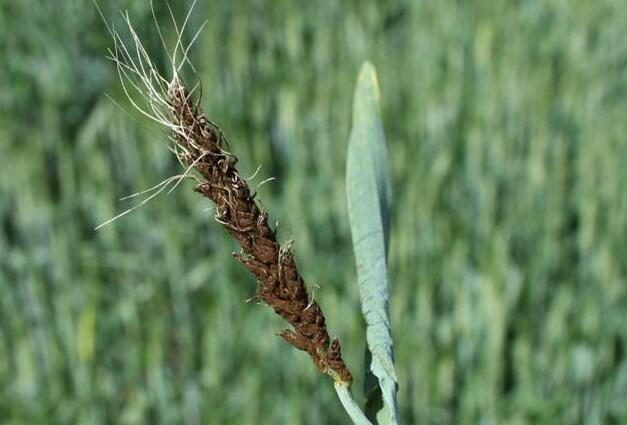Wheat Loose Smut: (145, 78, 355, 372)
